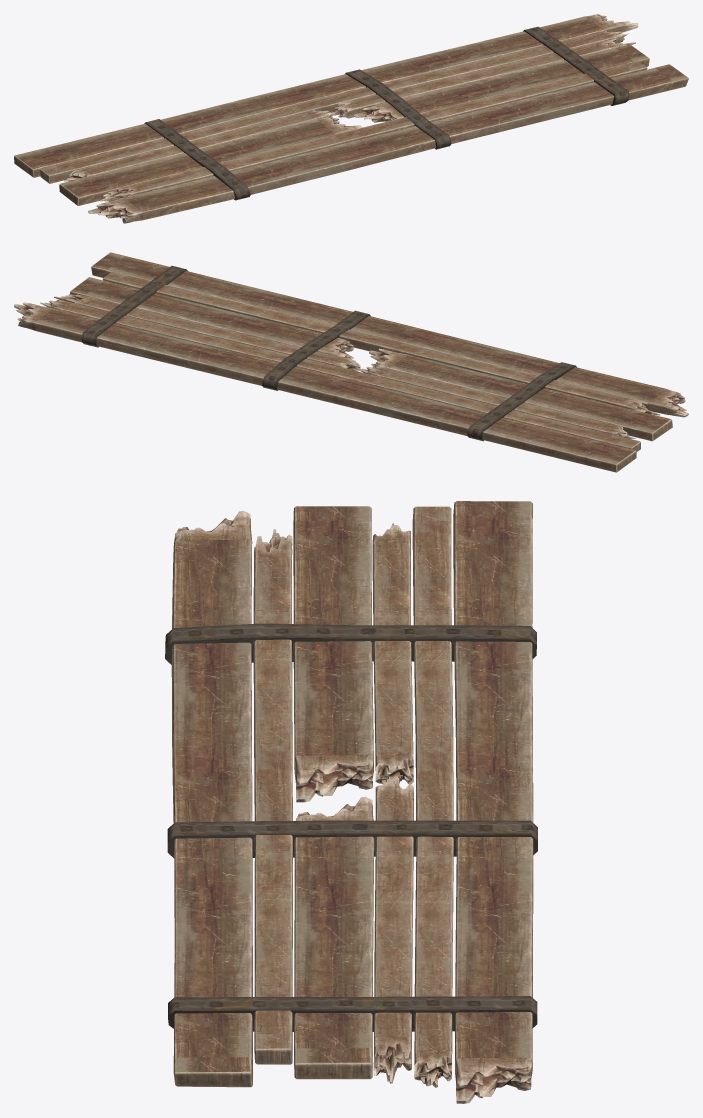
3 renders of one model, top to bottom at view 1: azimuth 30°, elevation 25°; view 2: azimuth 150°, elevation 25°; view 3: azimuth 270°, elevation 25°, orthographic. The views are drawn at different scales.
Visible parts, largest first — view 1: SM_Planks_8m_02_LOD0; view 2: SM_Planks_8m_02_LOD0; view 3: SM_Planks_8m_02_LOD0.
Boxes of the visible parts, x1,y1,x2,y2 form: SM_Planks_8m_02_LOD0: (14,14,688,223); SM_Planks_8m_02_LOD0: (14,252,688,472); SM_Planks_8m_02_LOD0: (165,501,537,1103).
Size of the model in its own units: 9.87 by 0.2201 by 2.62.
2 materials, 2 textured.
